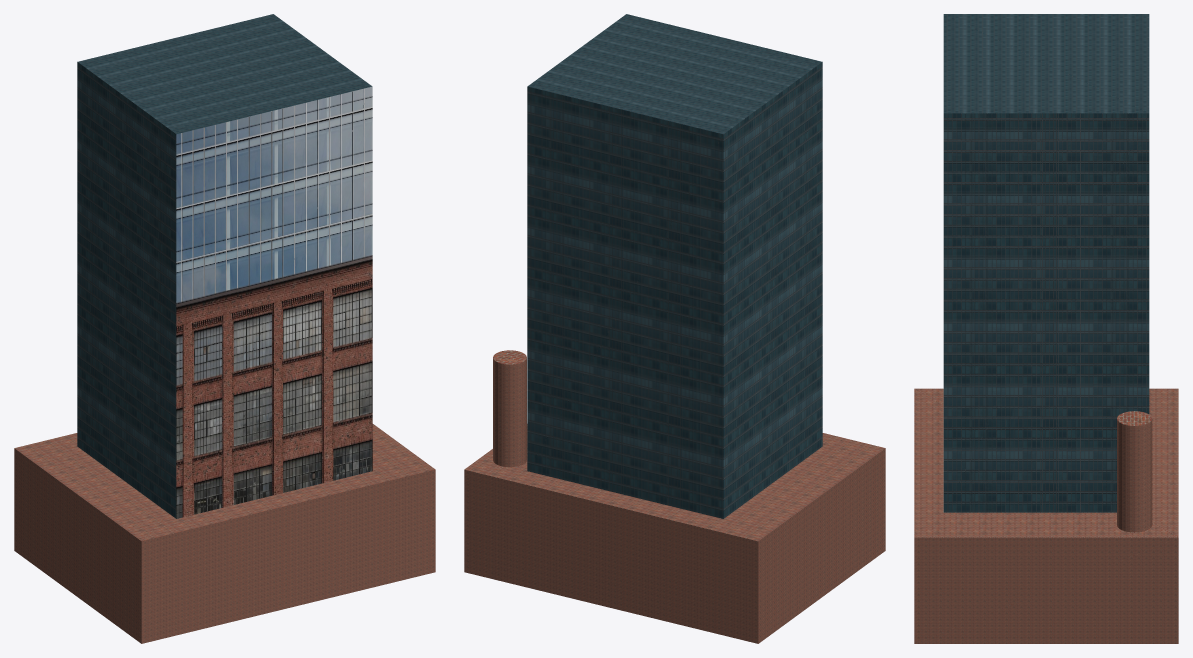
File: meridian-hq_lod0.gltf
The picture shows the model from 3 angles, left to right: view 1: azimuth 30°, elevation 25°; view 2: azimuth 150°, elevation 25°; view 3: azimuth 270°, elevation 25°; orthographic projection. The views are drawn at different scales.
Visible parts, largest first — view 1: meridian-hq_front, meridian-hq_tier1, meridian-hq_tier0; view 2: meridian-hq_tier1, meridian-hq_tier0, meridian-hq__chimney; view 3: meridian-hq_tier1, meridian-hq_tier0, meridian-hq__chimney.
Part boxes in pixels (x1,y1,x2,y2): meridian-hq_front: (176,86,372,518); meridian-hq_tier1: (77,14,372,518); meridian-hq_tier0: (14,424,435,643); meridian-hq_tier1: (527,14,822,518); meridian-hq_tier0: (464,424,885,643); meridian-hq__chimney: (493,350,526,467); meridian-hq_tier1: (943,14,1149,512); meridian-hq_tier0: (914,388,1178,643); meridian-hq__chimney: (1117,411,1152,532).
Bounding box in the file's own units: 60 × 95 × 45.
